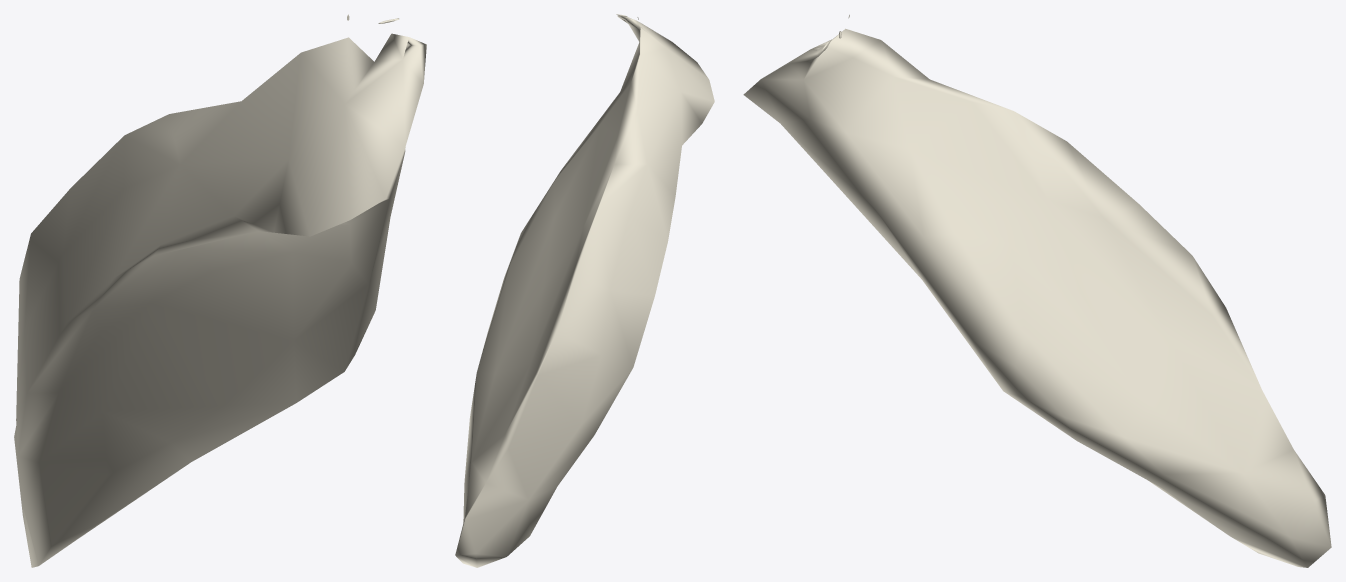
Rendered from fma54963_mm1003.glb.
3 views of the same model, side by side, from view 1: azimuth 30°, elevation 25°; view 2: azimuth 150°, elevation 25°; view 3: azimuth 270°, elevation 25° (orthographic). The views are drawn at different scales.
Parts seen in each view (by area): view 1: FMA54963_MM1003; view 2: FMA54963_MM1003; view 3: FMA54963_MM1003.
Boxes of the visible parts, x1,y1,x2,y2 form: FMA54963_MM1003: (14,14,426,567); FMA54963_MM1003: (455,14,714,567); FMA54963_MM1003: (743,14,1331,567).
Size of the model in its own units: 0.00217 by 0.00551 by 0.00525.
